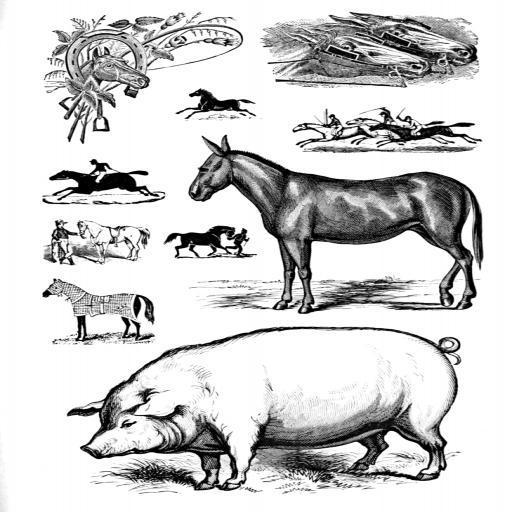horse: (182, 138, 496, 312), (265, 12, 476, 68), (259, 23, 435, 82), (42, 280, 156, 342), (48, 170, 162, 203), (78, 44, 151, 94), (78, 218, 150, 265), (366, 122, 483, 147), (177, 86, 258, 120), (164, 224, 240, 260), (344, 113, 422, 146), (292, 121, 372, 147)
